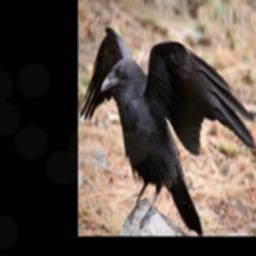Crow: (80, 24, 256, 233)
